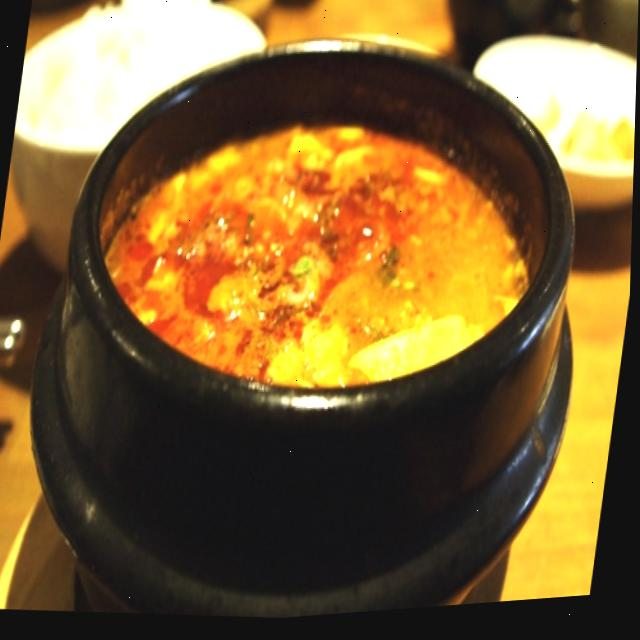汤锅炖物: (17, 0, 630, 637)
